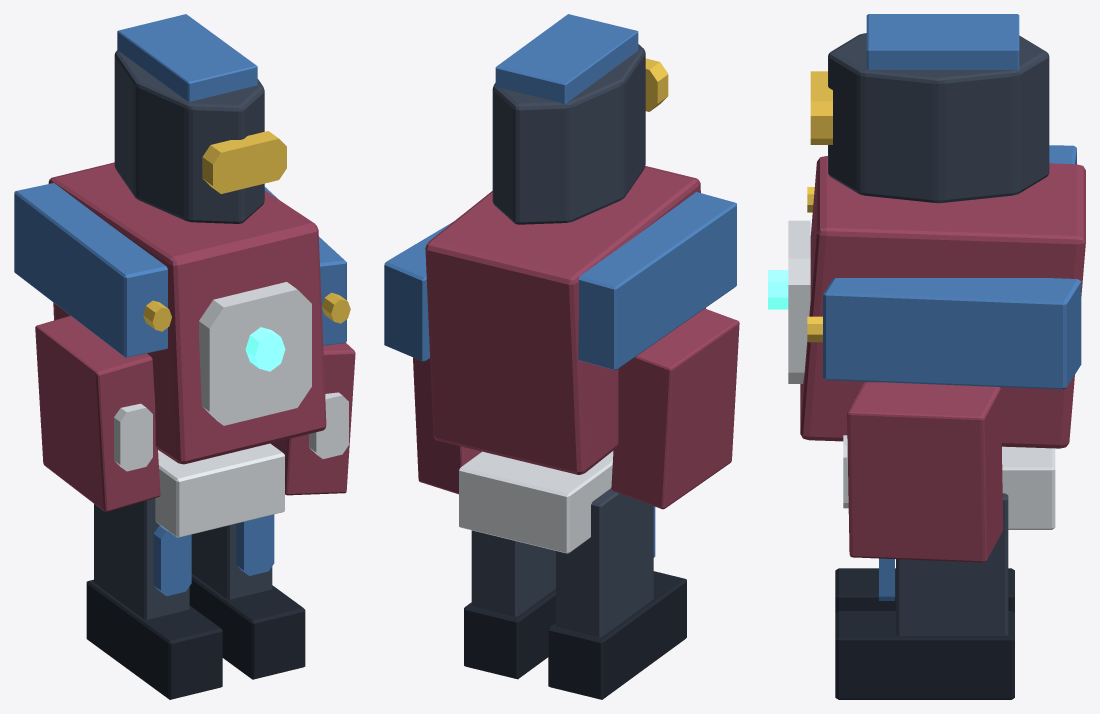
Rendered from enemy_standard__damaged.glb.
3 views of the same model, side by side, from view 1: azimuth 30°, elevation 25°; view 2: azimuth 150°, elevation 25°; view 3: azimuth 270°, elevation 25° (orthographic). The views are drawn at different scales.
Visible parts, largest first — view 1: ROLE_threat, ROLE_accent, ROLE_primary, ROLE_secondary, ROLE_rubber, ROLE_warning, ROLE_interaction; view 2: ROLE_threat, ROLE_primary, ROLE_accent, ROLE_rubber, ROLE_secondary, ROLE_warning; view 3: ROLE_threat, ROLE_primary, ROLE_accent, ROLE_rubber, ROLE_secondary, ROLE_warning, ROLE_interaction.
Boxes of the visible parts, x1,y1,x2,y2 form: ROLE_threat: (35, 162, 355, 512); ROLE_accent: (14, 14, 346, 596); ROLE_primary: (94, 50, 272, 619); ROLE_secondary: (114, 282, 348, 537); ROLE_rubber: (86, 573, 305, 699); ROLE_warning: (143, 131, 350, 331); ROLE_interaction: (245, 327, 285, 371); ROLE_threat: (413, 166, 739, 509); ROLE_primary: (471, 44, 653, 637); ROLE_accent: (384, 14, 736, 557); ROLE_rubber: (464, 571, 686, 699); ROLE_secondary: (459, 451, 613, 553); ROLE_warning: (645, 58, 668, 111); ROLE_threat: (800, 156, 1085, 562); ROLE_primary: (828, 33, 1049, 635); ROLE_accent: (823, 14, 1081, 600); ROLE_rubber: (835, 568, 1014, 699); ROLE_secondary: (788, 220, 1055, 529); ROLE_warning: (807, 71, 832, 342); ROLE_interaction: (768, 270, 788, 309).
Size of the model in its own units: 2.5 by 5.43 by 2.47.
